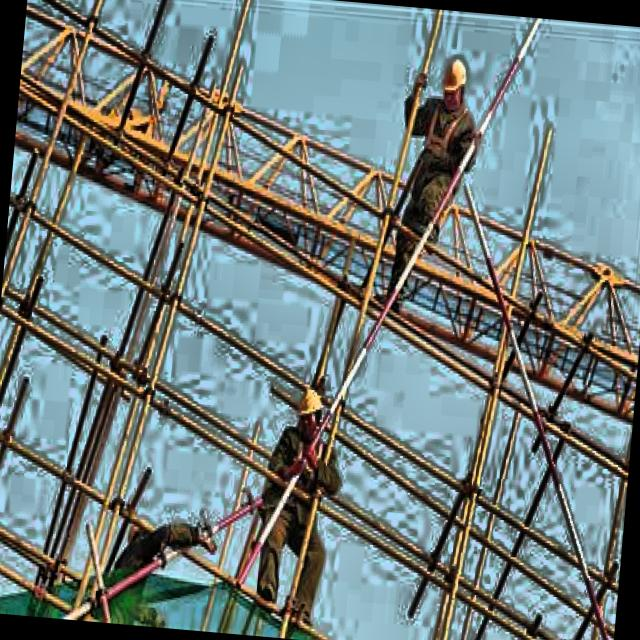helmet: (437, 51, 472, 113), (294, 383, 326, 441), (125, 511, 155, 554)
